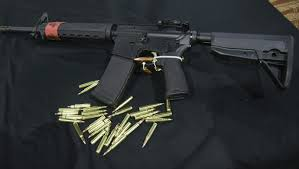gun: (1, 11, 295, 104)
